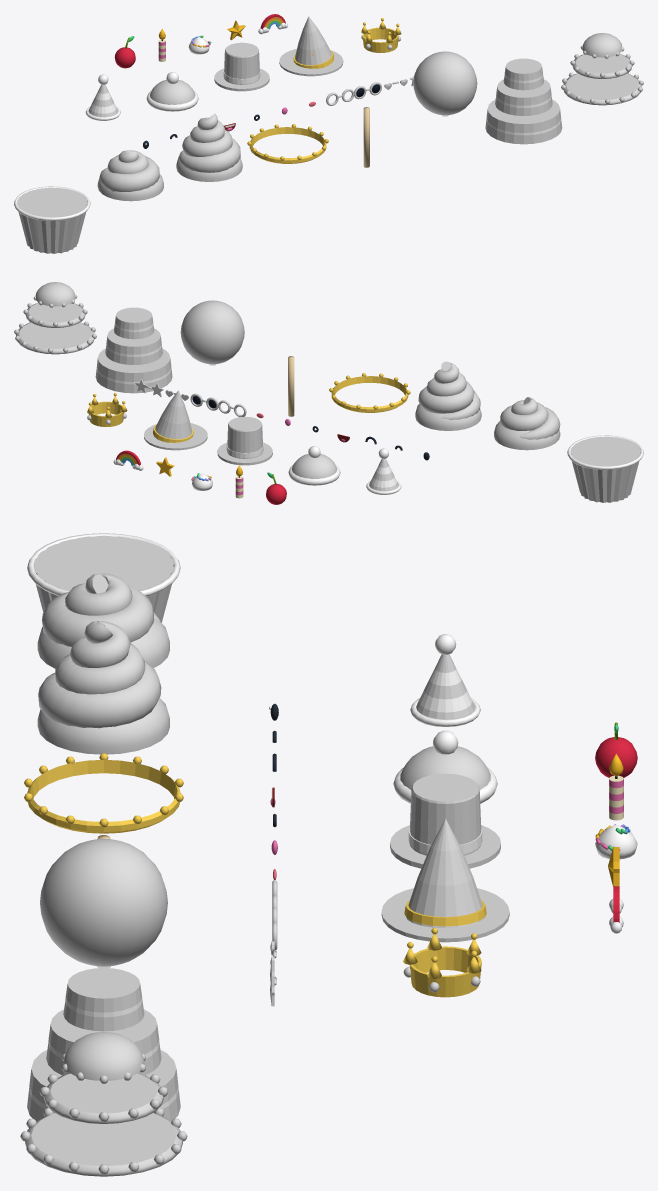
File: cupcake.glb
The picture shows the model from 3 angles, top to bottom: view 1: azimuth 30°, elevation 25°; view 2: azimuth 150°, elevation 25°; view 3: azimuth 270°, elevation 25°; orthographic projection. The views are drawn at different scales.
Visible parts, largest first — view 1: layered_sponge, layered_icing, cupcake_wrapper, cakepop_ball, cupcake_frosting_tall, cupcake_frosting, hat_wizard, hat_tophat, hat_beanie, cupcake_collar, hat_crown, hat_party (+3 smaller); view 2: layered_sponge, layered_icing, cupcake_wrapper, cupcake_frosting_tall, cakepop_ball, cupcake_frosting, hat_wizard, hat_tophat, hat_beanie, cupcake_collar, hat_crown, hat_party (+3 smaller); view 3: layered_icing, cakepop_ball, cupcake_frosting_tall, layered_sponge, hat_wizard, cupcake_wrapper, cupcake_frosting, hat_tophat, cupcake_collar, hat_crown, hat_party, hat_beanie (+2 smaller).
Boxes of the visible parts, box(x1,y1,x2,y2) form: layered_sponge: box(485, 58, 562, 144); layered_icing: box(561, 33, 643, 105); cupcake_wrapper: box(14, 186, 90, 253); cakepop_ball: box(413, 51, 477, 116); cupcake_frosting_tall: box(176, 113, 242, 181); cupcake_frosting: box(97, 150, 163, 201); hat_wizard: box(279, 16, 343, 76); hat_tophat: box(214, 42, 269, 91); hat_beanie: box(146, 72, 198, 111); cupcake_collar: box(247, 124, 328, 163); hat_crown: box(361, 18, 401, 52); hat_party: box(85, 74, 120, 120); layered_sponge: box(95, 307, 172, 393); layered_icing: box(14, 282, 96, 354); cupcake_wrapper: box(567, 435, 643, 502); cupcake_frosting_tall: box(415, 361, 481, 430); cakepop_ball: box(180, 300, 244, 365); cupcake_frosting: box(494, 397, 560, 450); hat_wizard: box(144, 390, 207, 450); hat_tophat: box(217, 416, 272, 465); hat_beanie: box(288, 446, 340, 485); cupcake_collar: box(329, 373, 410, 412); hat_crown: box(87, 393, 127, 426); hat_party: box(366, 448, 401, 494); layered_icing: box(20, 1032, 187, 1176); cakepop_ball: box(40, 838, 167, 968); cupcake_frosting_tall: box(37, 621, 169, 754); layered_sponge: box(27, 968, 180, 1120); hat_wizard: box(381, 818, 509, 942); cupcake_wrapper: box(27, 533, 180, 622); cupcake_frosting: box(37, 573, 169, 668); hat_tophat: box(390, 773, 500, 868); cupcake_collar: box(24, 753, 183, 833); hat_crown: box(403, 927, 481, 997); hat_party: box(410, 634, 480, 726); hat_beanie: box(393, 730, 497, 803).
Size of the model in its own units: 6.7 by 0.96 by 2.89.
3 materials, 1 textured.
